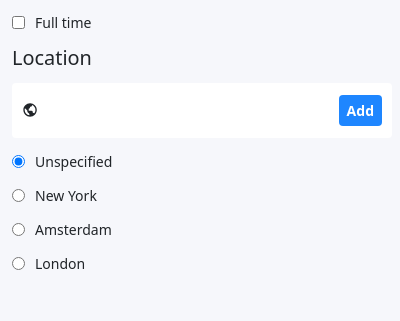
Test case: <Sidebar /> › should add location when add location button is clicked
The image size is (400, 321).
Type "Belo Horizonte" into the field.
click(193, 110); type("Belo Horizonte")  # box [48,100,339,121]
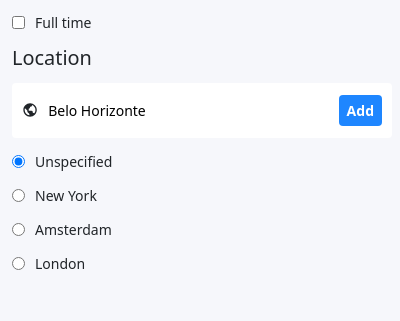
Click the button "Add".
click(360, 110)  # box [339,95,382,126]
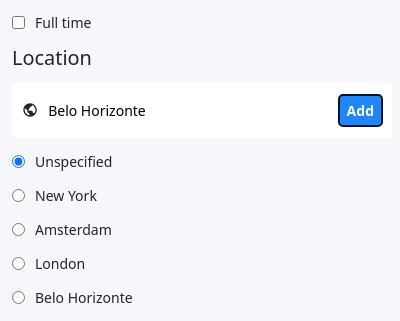
Result: the radio button labelled "Belo Horizonte" is shown at [12,291,25,304]
